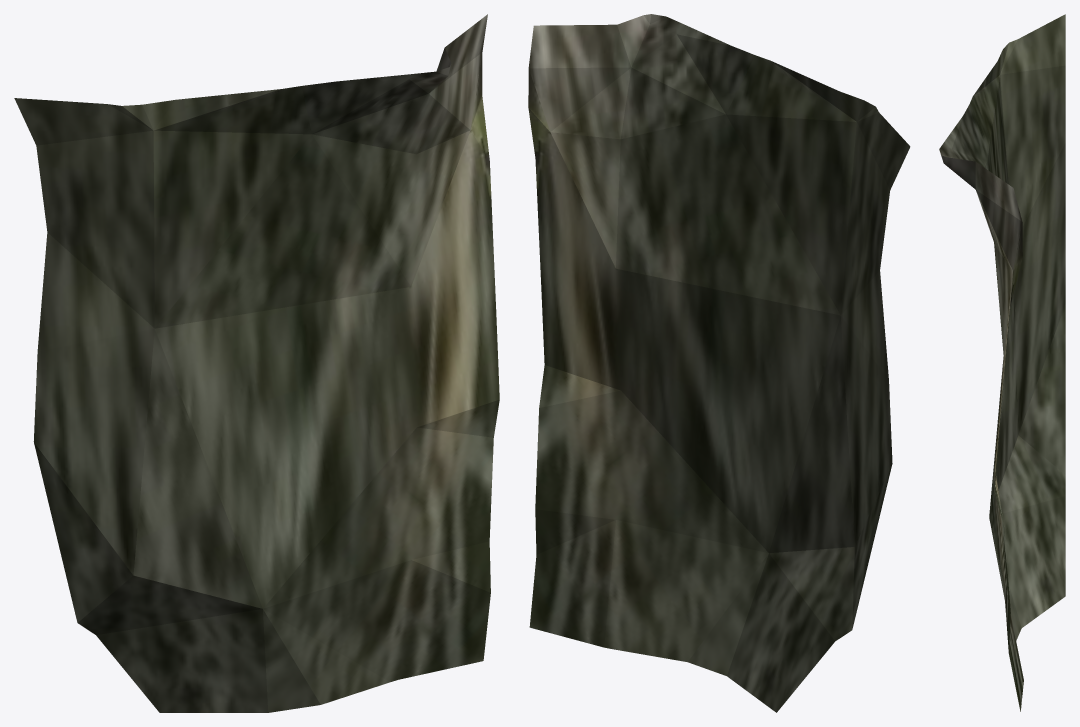
3 renders of one model, left to right at view 1: azimuth 30°, elevation 25°; view 2: azimuth 150°, elevation 25°; view 3: azimuth 270°, elevation 25°, orthographic. The views are drawn at different scales.
Bounding box in the file's own units: 2.1 × 2.95 × 0.6448.
Materials: 2 (2 with a texture image).
